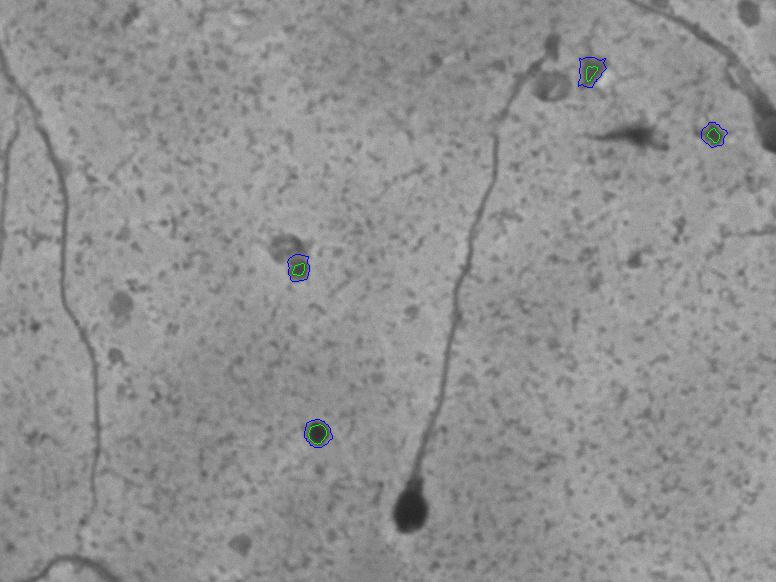Abnormal: (348, 76, 555, 553)
